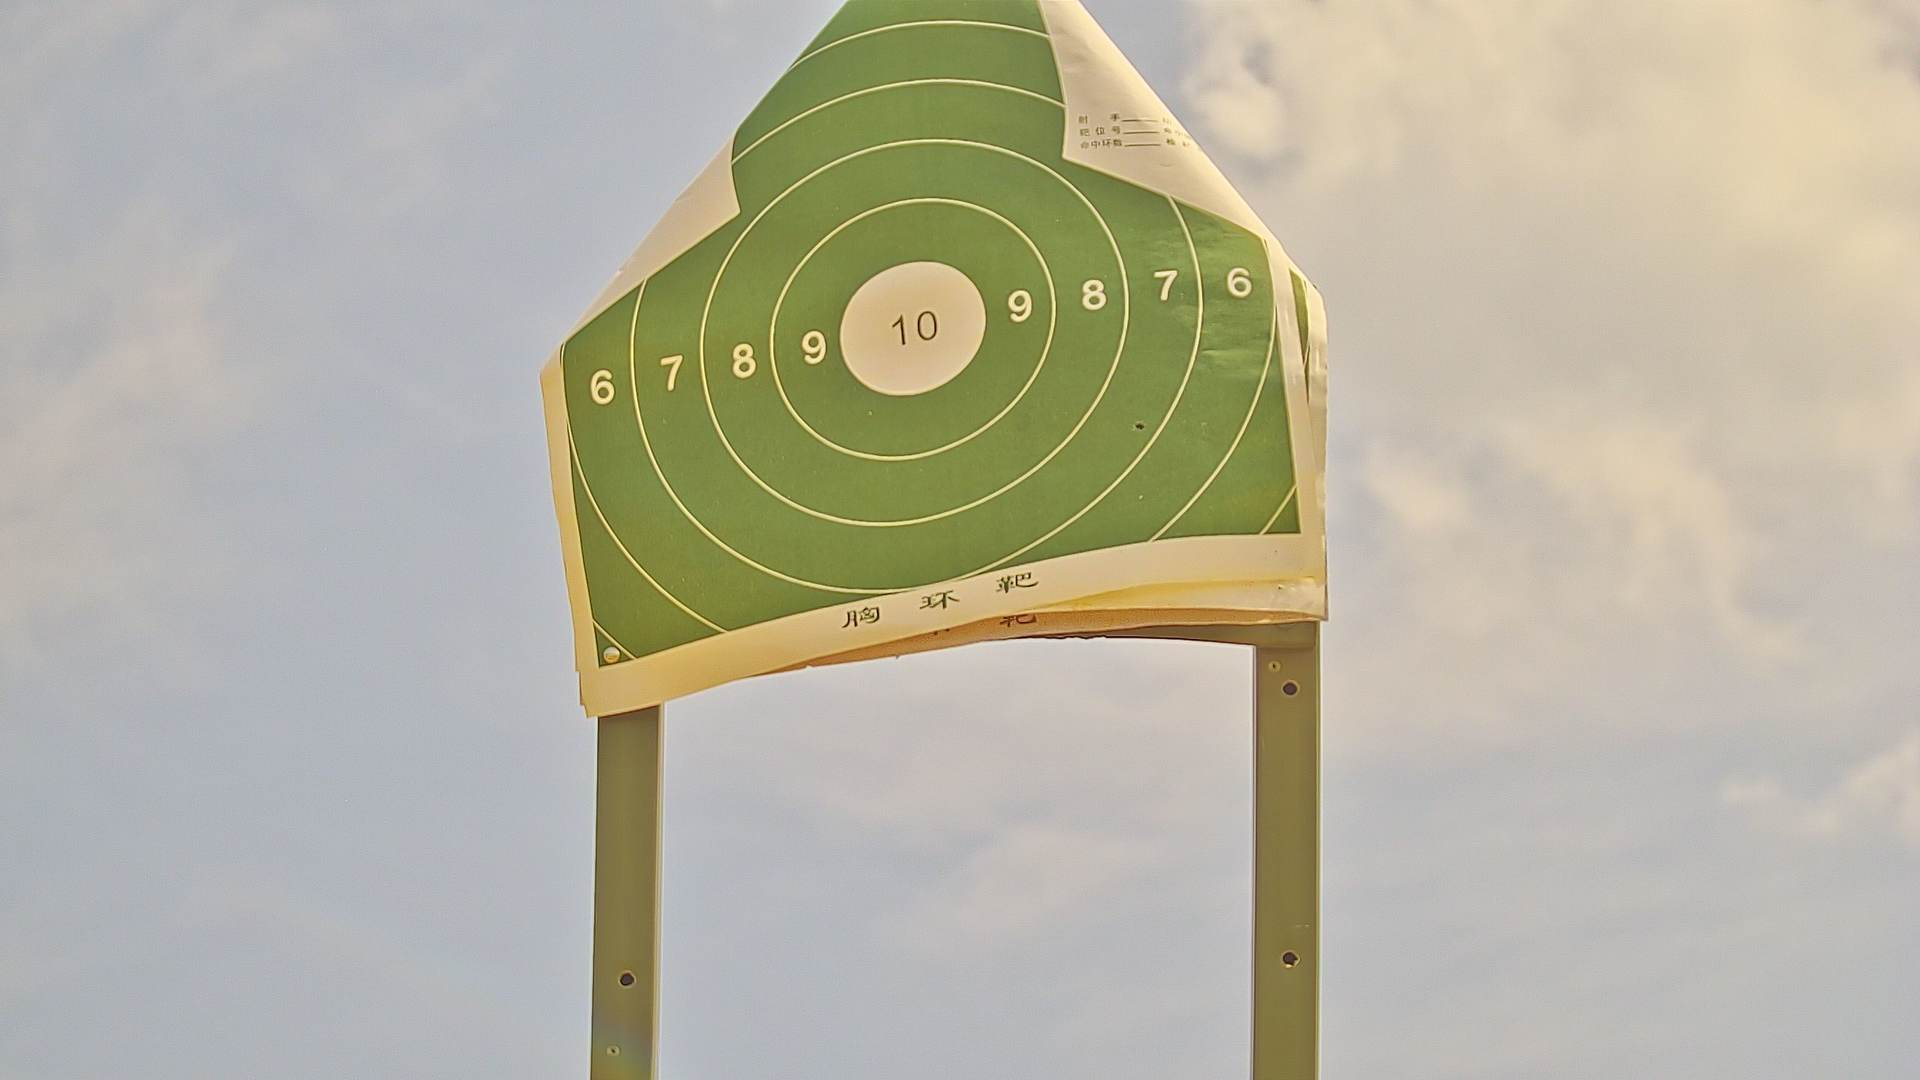hole: (1134, 419, 1147, 433)
kernel: (913, 324, 923, 332)
target: (556, 3, 1305, 673)
ten: (839, 256, 986, 398)
